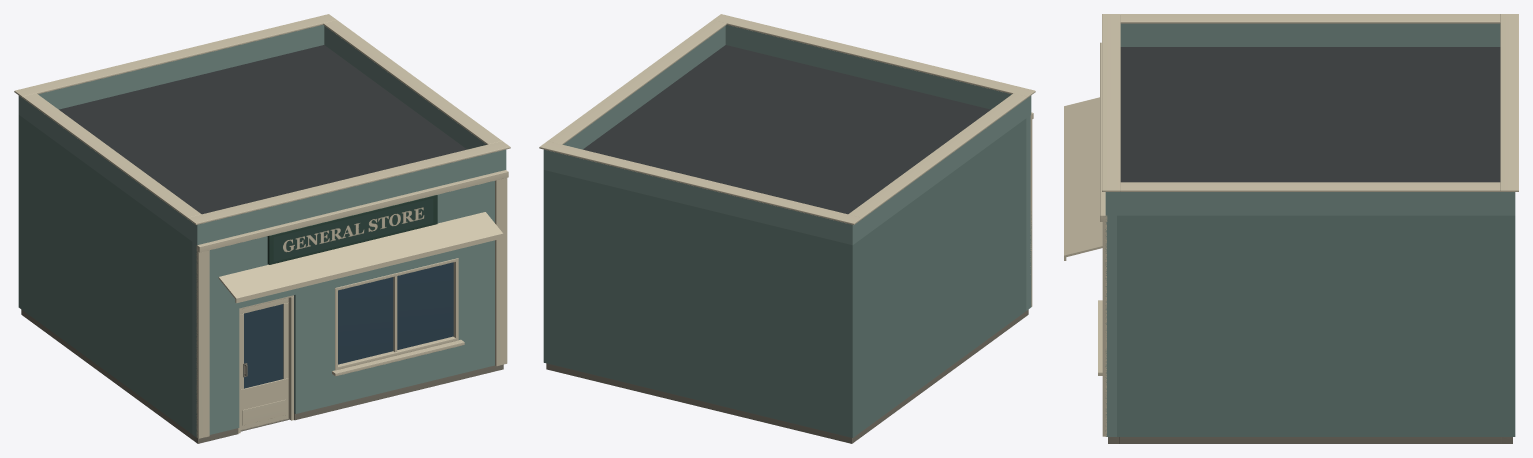
Rendered from General_Store_Exterior.fbx.
3 renders of one model, left to right at view 1: azimuth 30°, elevation 25°; view 2: azimuth 150°, elevation 25°; view 3: azimuth 270°, elevation 25°, orthographic. The views are drawn at different scales.
Visible parts, largest first — view 1: Roof, Building_Shell_Left, Building_Shell_Front, Parapet, Parapet_Coping, Display_Window, Awning, Architectural_Trim, Entrance_Door, General_Store_Sign_Print, Foundation_Trim, General_Store_Sign_Board (+2 smaller); view 2: Building_Shell_Rear, Roof, Building_Shell_Left, Parapet, Parapet_Coping, Foundation_Trim, Building_Shell_Front, Architectural_Trim; view 3: Building_Shell_Right, Roof, Parapet, Parapet_Coping, Awning, Foundation_Trim, Building_Shell_Rear, Building_Shell_Front, Architectural_Trim.
Boxes of the visible parts, x1,y1,x2,y2 form: Roof: (59,45,466,214); Building_Shell_Left: (23,118,192,433); Building_Shell_Front: (192,181,494,437); Parapet: (18,25,506,245); Parapet_Coping: (14,14,510,224); Display_Window: (332,258,464,376); Awning: (218,212,503,303); Architectural_Trim: (196,170,508,438); Entrance_Door: (240,298,288,429); General_Store_Sign_Print: (273,198,433,261); Foundation_Trim: (21,309,503,443); General_Store_Sign_Board: (267,195,437,264); Building_Shell_Rear: (543,170,857,437); Roof: (583,45,990,214); Building_Shell_Left: (857,118,1026,433); Parapet: (543,25,1031,245); Parapet_Coping: (539,14,1035,224); Foundation_Trim: (546,309,1028,443); Building_Shell_Front: (1026,115,1031,310); Architectural_Trim: (1030,112,1033,306); Building_Shell_Right: (1117,215,1503,436); Roof: (1120,47,1500,182); Parapet: (1105,23,1515,215); Parapet_Coping: (1102,14,1518,191); Awning: (1064,97,1102,260); Foundation_Trim: (1108,437,1512,443); Building_Shell_Rear: (1504,215,1515,436); Building_Shell_Front: (1105,215,1116,436); Architectural_Trim: (1100,42,1107,436).
Bounding box in the file's own units: 5.6 × 3.8 × 6.11.
Materials: 8 (1 with a texture image).
